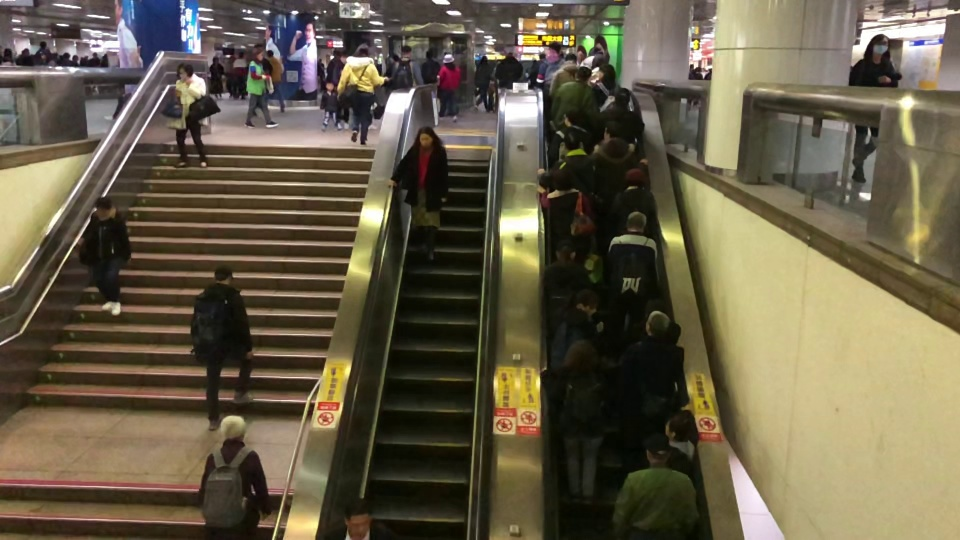person_head: (343, 496, 373, 538), (562, 339, 599, 372), (662, 412, 694, 444), (643, 432, 671, 465), (642, 309, 671, 339), (550, 159, 576, 192), (571, 288, 599, 317), (219, 414, 246, 442), (554, 237, 577, 266), (623, 166, 649, 188), (623, 211, 647, 233), (602, 119, 625, 140), (562, 126, 582, 150), (869, 33, 890, 54), (416, 126, 435, 149), (612, 87, 631, 109), (94, 195, 112, 218), (213, 264, 233, 284), (563, 108, 583, 127), (597, 63, 616, 81), (573, 66, 592, 83), (175, 62, 193, 79), (591, 53, 609, 69), (352, 43, 370, 57), (548, 41, 562, 56), (251, 46, 265, 60), (563, 52, 577, 65), (400, 44, 412, 59), (253, 43, 265, 58), (587, 46, 603, 57), (442, 53, 455, 65), (324, 80, 335, 92), (338, 52, 349, 64), (39, 50, 49, 60), (424, 49, 433, 60), (505, 51, 514, 61), (479, 54, 488, 64), (265, 48, 274, 58), (3, 48, 12, 58), (331, 50, 340, 59), (211, 56, 220, 65), (39, 40, 47, 49), (21, 48, 29, 57), (237, 51, 245, 59), (62, 52, 70, 60), (538, 52, 545, 61), (489, 73, 496, 81), (228, 55, 235, 63), (71, 54, 78, 62), (695, 66, 702, 73), (91, 51, 98, 58), (689, 63, 694, 72), (317, 57, 323, 64), (102, 53, 107, 59), (83, 55, 88, 60), (708, 68, 712, 73)
person_vbox: (610, 309, 689, 491), (539, 339, 611, 505), (193, 264, 255, 430), (611, 432, 701, 540), (197, 414, 273, 540), (603, 210, 660, 367), (386, 126, 449, 261), (846, 33, 902, 183), (77, 195, 133, 318), (335, 43, 393, 145), (536, 159, 598, 254), (541, 237, 593, 339), (548, 288, 610, 373), (589, 119, 649, 205), (536, 126, 596, 195), (608, 166, 660, 244), (316, 496, 402, 540), (172, 61, 207, 168), (662, 412, 703, 495), (549, 66, 600, 130), (593, 87, 645, 147), (243, 46, 279, 129), (546, 108, 595, 162), (535, 41, 566, 111), (382, 43, 423, 88), (331, 51, 353, 130), (436, 53, 461, 122), (250, 43, 273, 117), (591, 63, 622, 113), (549, 52, 581, 98), (265, 48, 285, 113), (319, 80, 342, 132), (494, 51, 523, 89), (473, 54, 492, 112), (232, 51, 248, 100), (420, 49, 440, 84), (208, 56, 224, 99), (527, 53, 546, 89), (588, 53, 609, 85), (579, 46, 604, 70), (325, 50, 341, 80), (225, 55, 235, 98), (485, 73, 496, 112), (34, 40, 51, 64), (692, 66, 702, 106), (687, 63, 695, 108), (316, 57, 325, 93), (16, 48, 33, 65), (0, 47, 16, 65), (39, 51, 57, 65), (88, 51, 100, 67), (58, 52, 70, 66), (69, 54, 81, 67), (703, 67, 712, 80), (79, 55, 88, 67), (101, 53, 108, 67)
